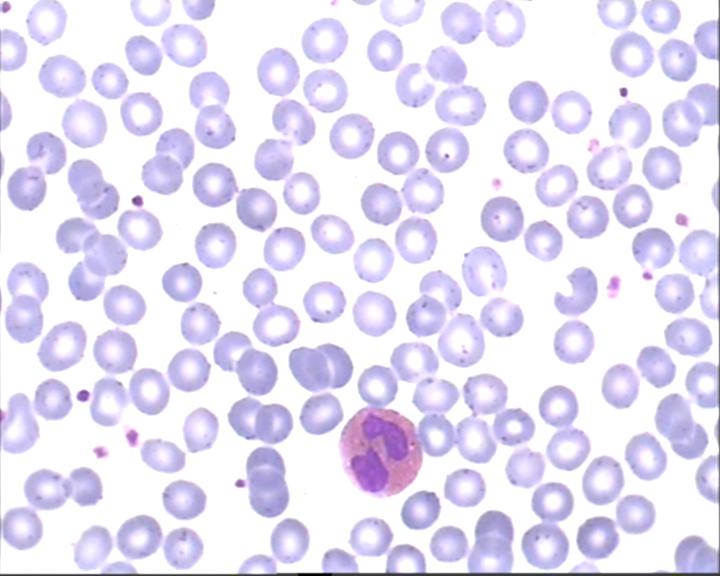eosi: (334, 404, 423, 500)
